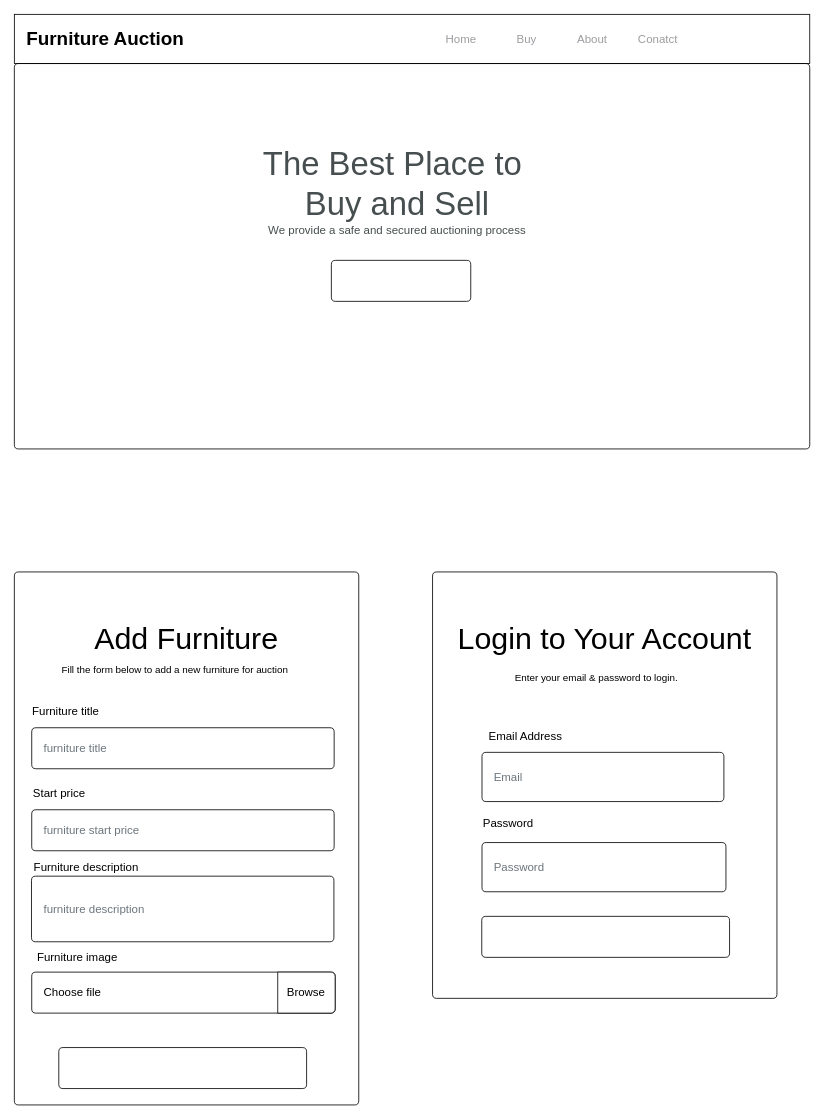
Some shapes in this 824 by 1119 pixel diagram are drawn without their labels. Each missing label, with the centre of its shape:
"Login" goes at point 605,936.
"Register" goes at point 401,280.
"Submit" goes at point 182,1068.
